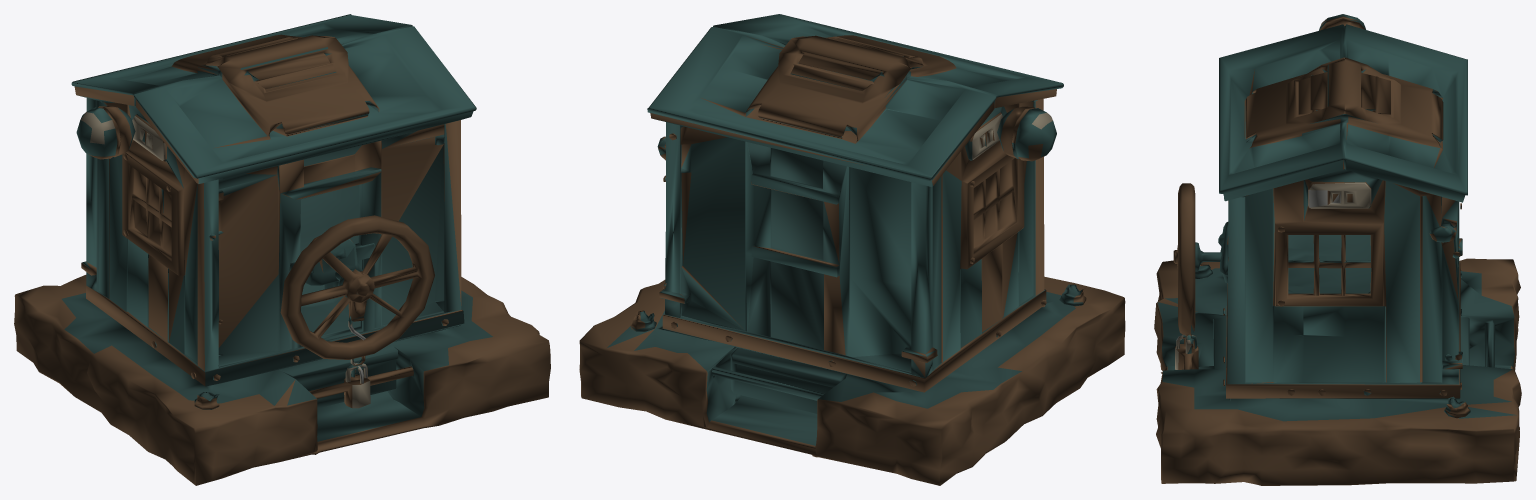
Rendered from gate_wheelhouse_a_tripo.glb.
3 renders of one model, left to right at view 1: azimuth 30°, elevation 25°; view 2: azimuth 150°, elevation 25°; view 3: azimuth 270°, elevation 25°, orthographic. The views are drawn at different scales.
Parts seen in each view (by area): view 1: Surface; view 2: Surface; view 3: Surface.
Part boxes in pixels (box(x1,y1,x2,y2)): Surface: box(14, 14, 550, 485); Surface: box(579, 14, 1125, 485); Surface: box(1154, 14, 1521, 485).
Size of the model in its own units: 7.09 by 5.72 by 5.98.
